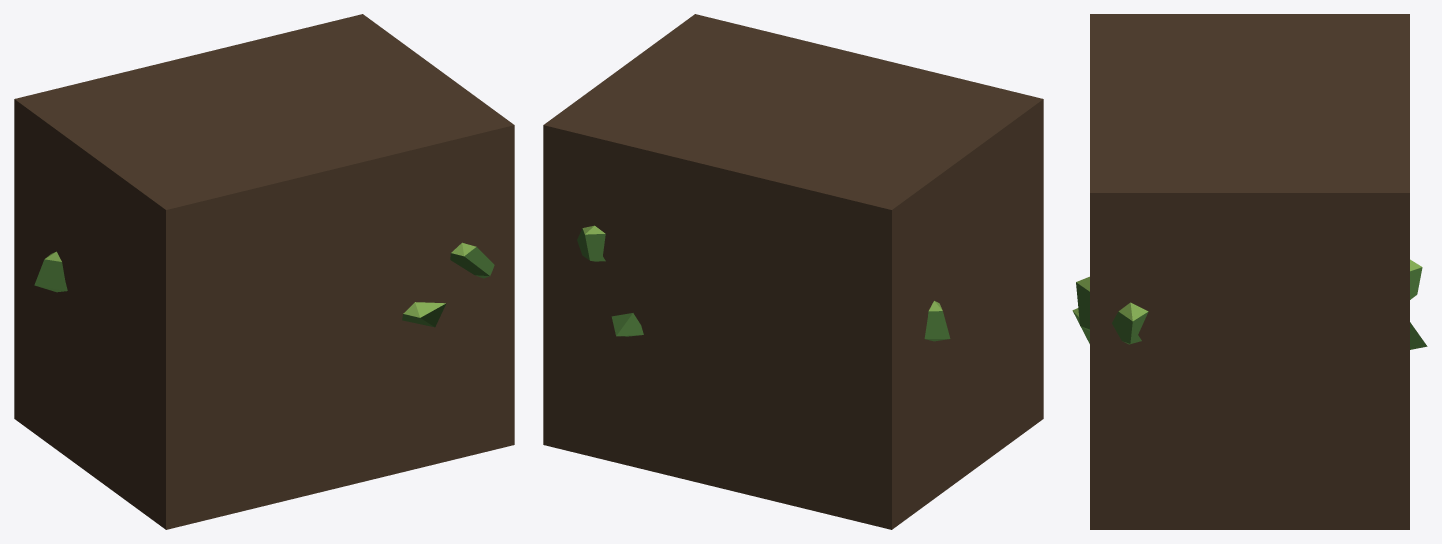
File: bush_scrub.glb
The picture shows the model from 3 angles, left to right: view 1: azimuth 30°, elevation 25°; view 2: azimuth 150°, elevation 25°; view 3: azimuth 270°, elevation 25°; orthographic projection. The views are drawn at different scales.
Visible parts, largest first — view 1: col_BushScrub, BushScrub_Full_LOD0; view 2: col_BushScrub, BushScrub_Full_LOD0; view 3: col_BushScrub, BushScrub_Full_LOD0.
Part boxes in pixels (x1,y1,x2,y2): col_BushScrub: (14, 14, 514, 529); BushScrub_Full_LOD0: (34, 242, 494, 327); col_BushScrub: (543, 14, 1043, 529); BushScrub_Full_LOD0: (577, 225, 950, 341); col_BushScrub: (1090, 14, 1409, 529); BushScrub_Full_LOD0: (1072, 259, 1427, 349).
Size of what is drawn, in the model's own units: 1.14 by 0.9 by 0.86.
